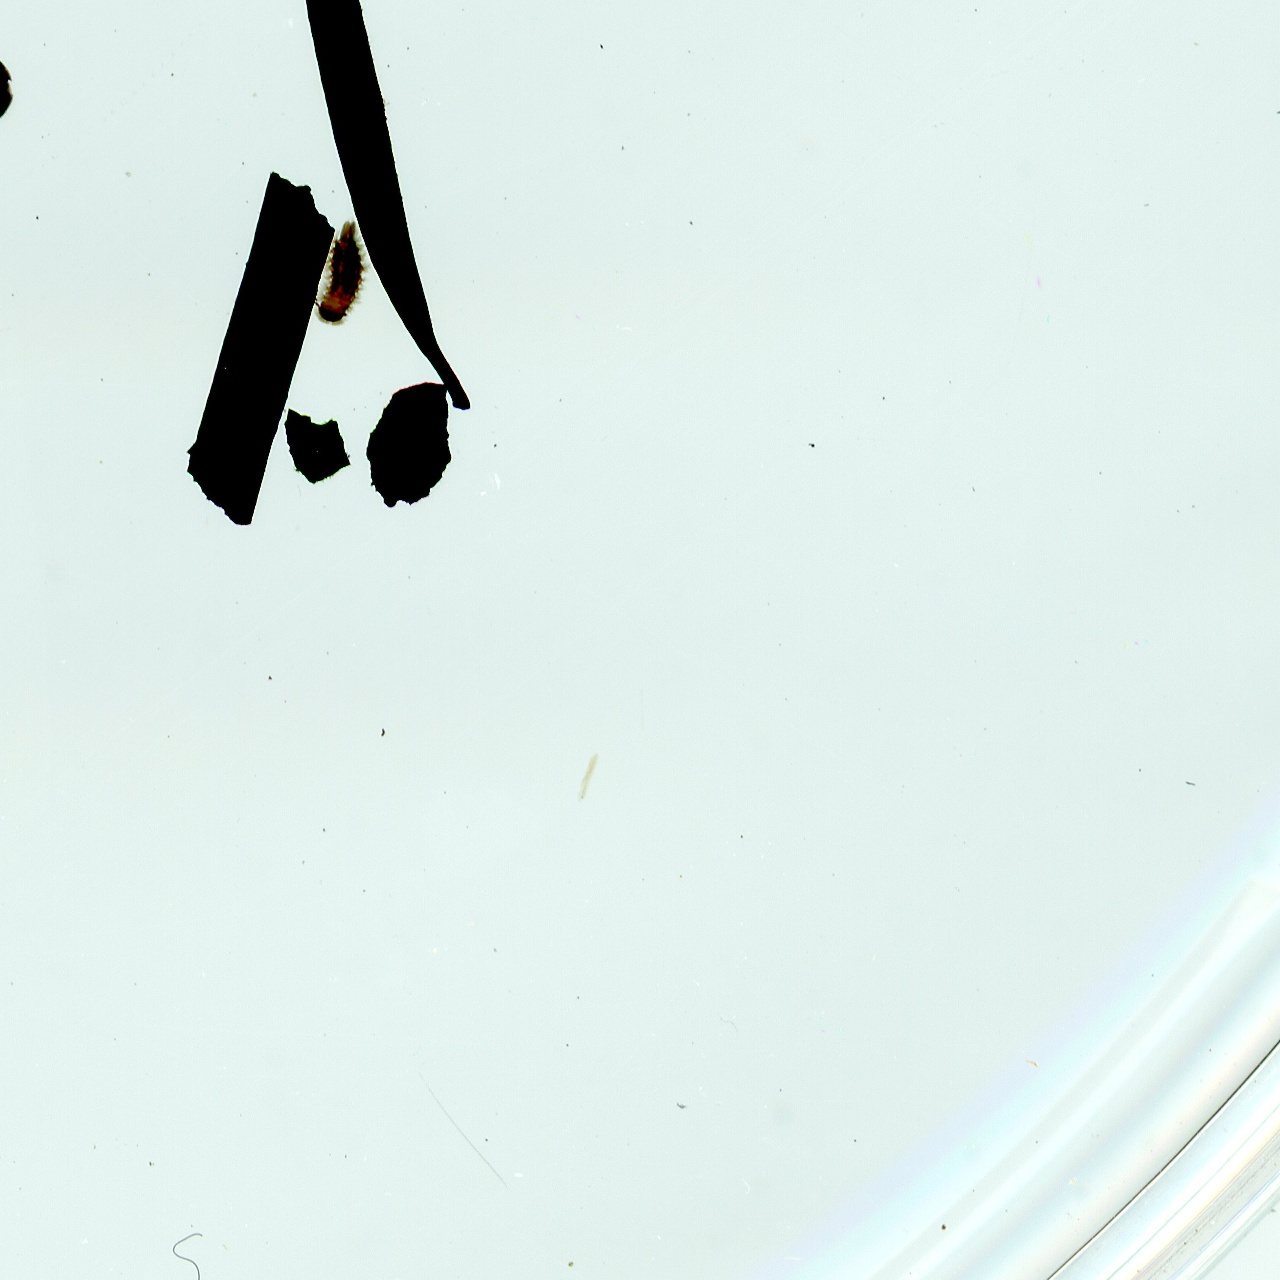arthropod: (306, 209, 388, 340), (0, 30, 34, 159)
